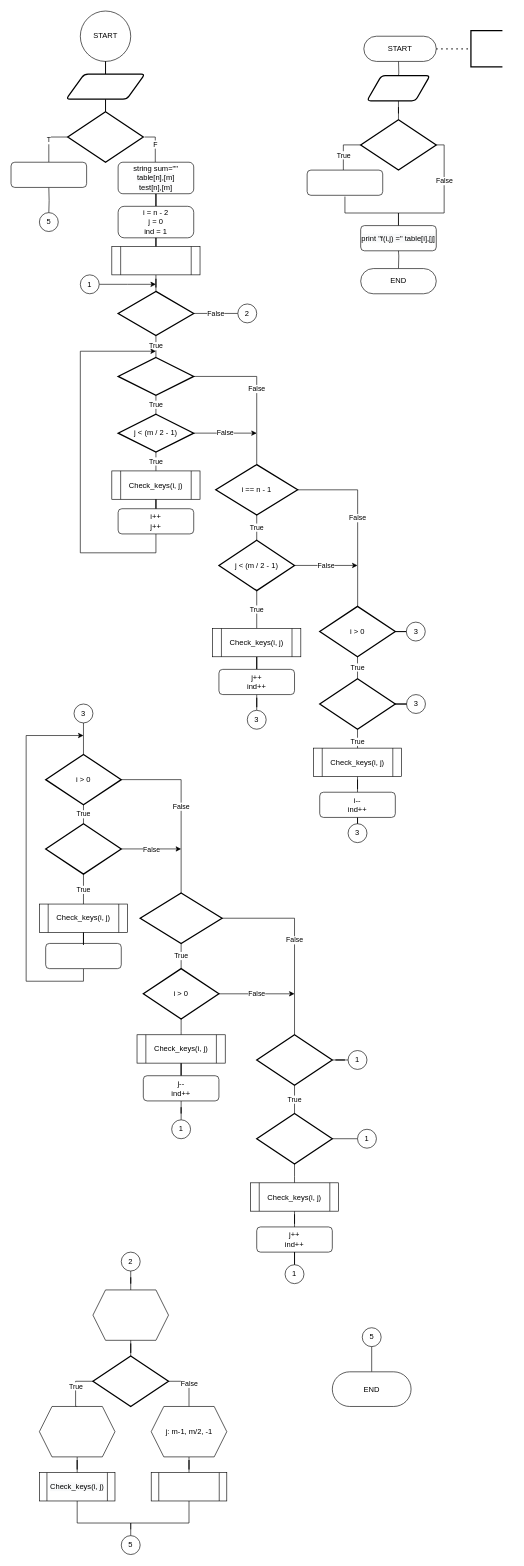
The diagram is 524 pixels wide and 1566 high, and some of its shapes have lost their labels. The box of each missing label's shape, as (x1, y1, x2, y2) in pixels:
Check_key(i, j): (151, 1472, 227, 1501)
Check_keys (i, j): (470, 30, 503, 67)
Check_keys(n-1, 0): (111, 246, 200, 275)
i < n - 1: (117, 357, 194, 396)
i == 0: (256, 1113, 333, 1164)
i%2 = 0: (92, 1355, 169, 1407)
i-- j--: (45, 943, 121, 969)
i: 0, n,1: (92, 1289, 169, 1340)
ind < n+m/2 -1: (117, 290, 194, 336)
int i, j: (366, 75, 430, 101)
int n, m, k: (65, 73, 145, 100)
j = (m / 2 - 1): (319, 678, 396, 730)
j == 0: (139, 892, 222, 944)
j > 0: (45, 823, 122, 874)
j >= 0: (256, 1034, 333, 1085)
j:m/2, m, 1: (39, 1406, 115, 1457)
m%2 != 0: (67, 111, 144, 163)
print "Fatal Error": (10, 162, 87, 187)
sum+="f(i,j) = table[i],[j]": (306, 169, 383, 195)
table[i],[j]>k: (360, 119, 437, 170)
